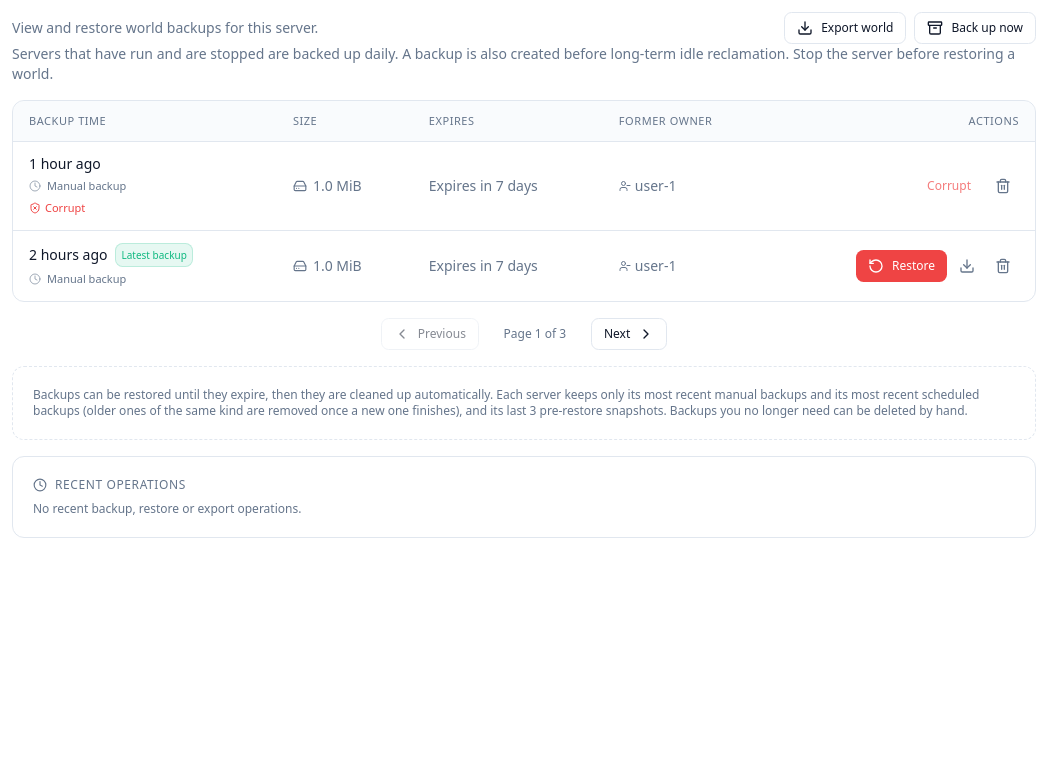
it: ServerBackups › reads only this server's backups a page at a time, and marks the latest on the first page
Expected: the text "Page 1 of 3" is shown, left=504, top=325, right=566, bottom=342
Expected: the text "Latest backup" is shown once, left=116, top=243, right=193, bottom=267
Click the button "Next". click: (629, 334)
box: left=591, top=318, right=667, bottom=350
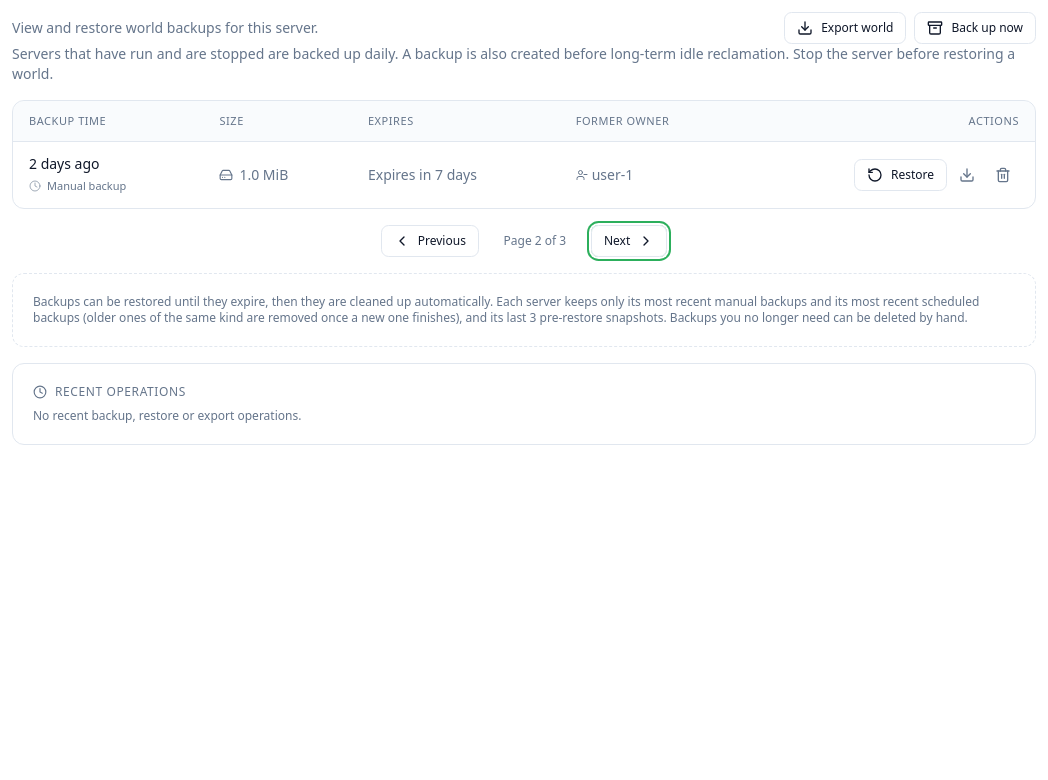
Expected: the text "Page 2 of 3" is shown, left=504, top=232, right=566, bottom=249
Expected: the text "Latest backup" is gone
